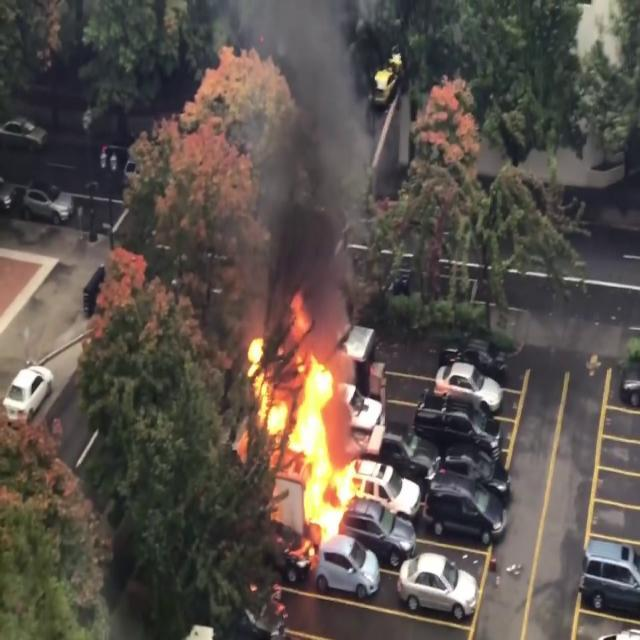Fire: (236, 304, 366, 552)
Smoke: (230, 0, 400, 308)
